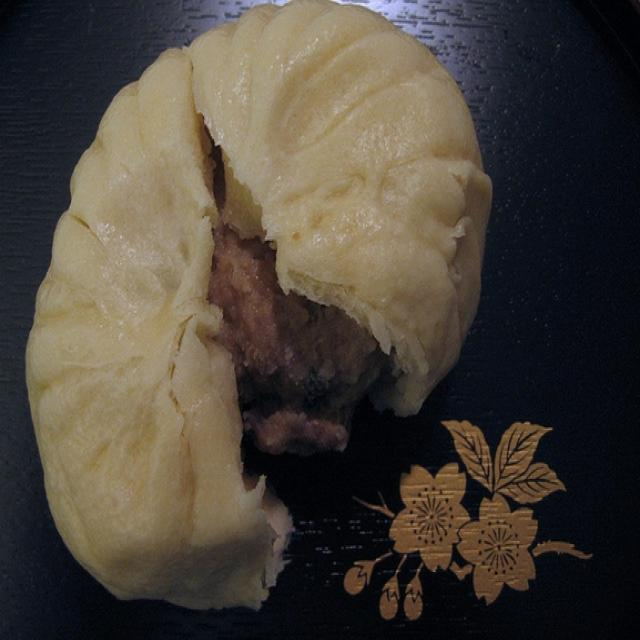带馅早点: (25, 31, 516, 591)
